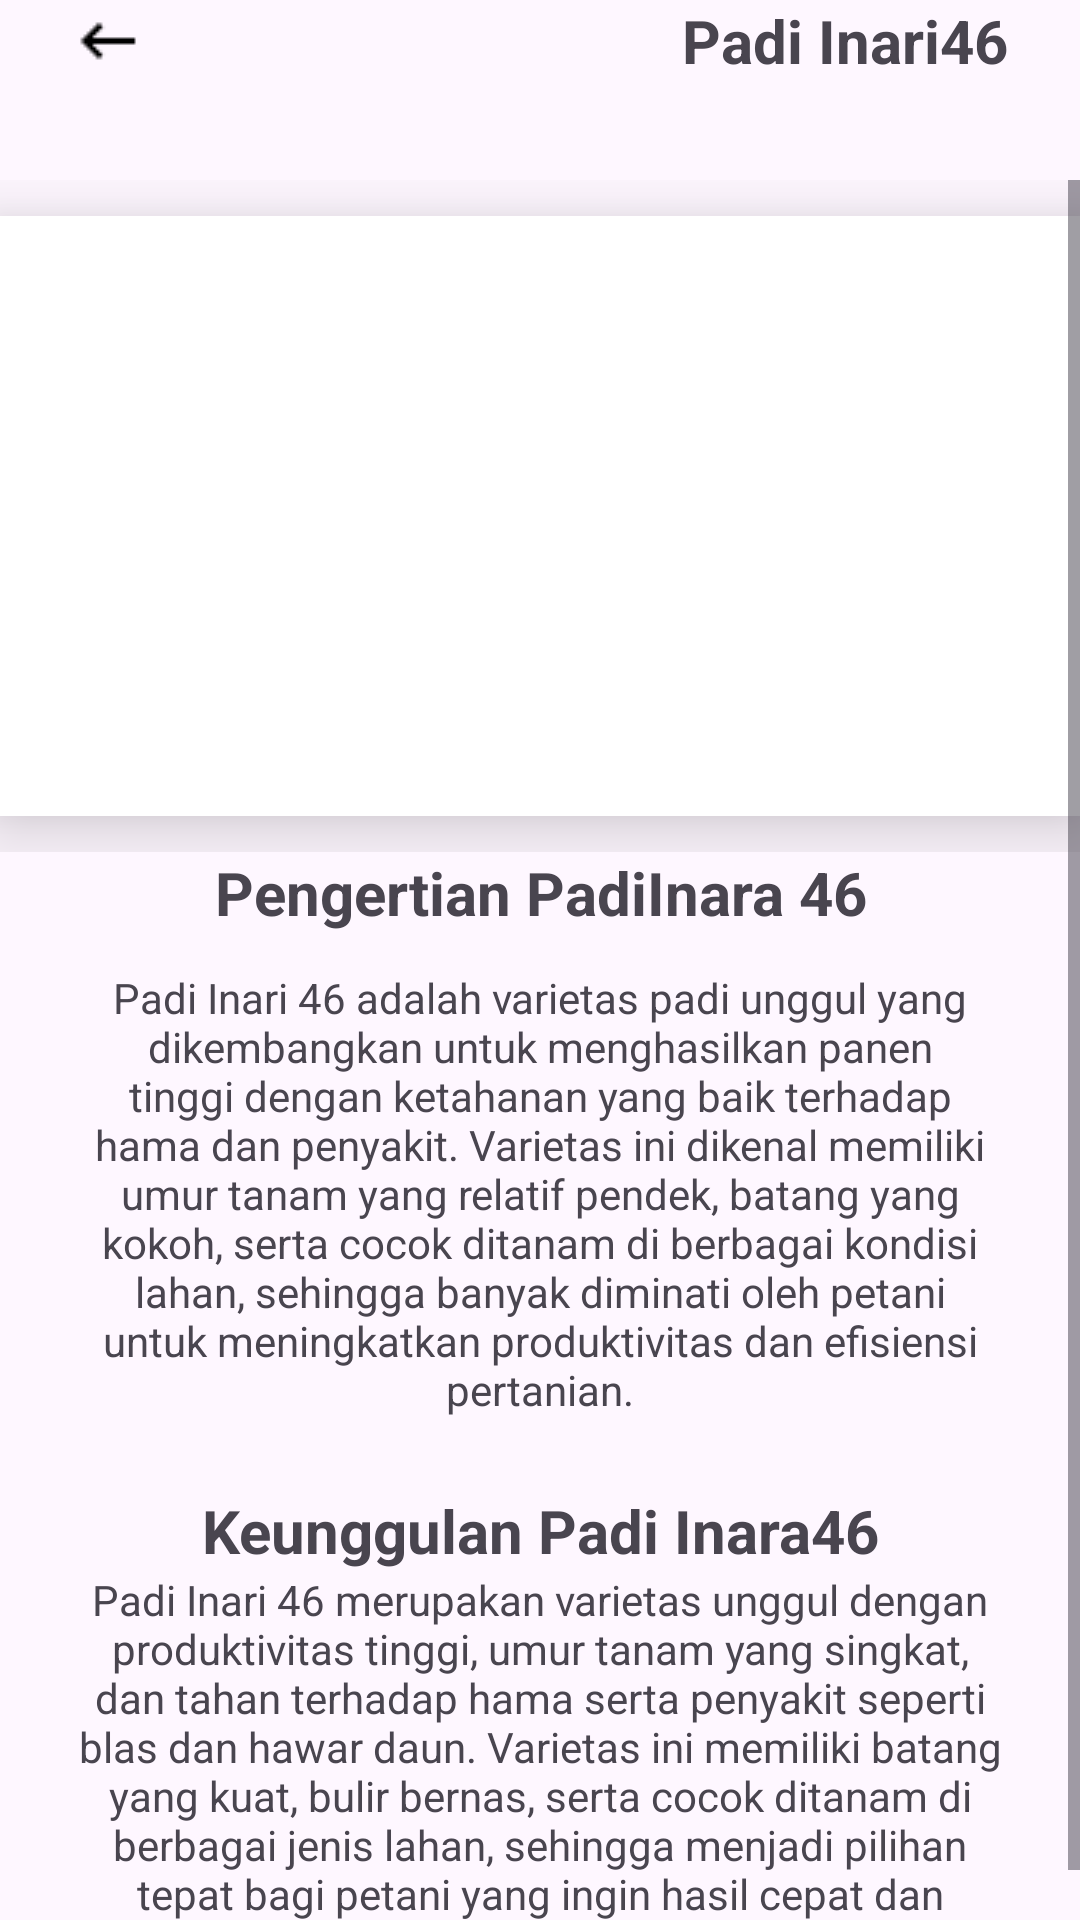

Icon bounding boxes for this 1080w x 1920h phone screenshot, format (x1, y1, x2, y2):
keyboard backspace: (80, 22, 136, 60)
